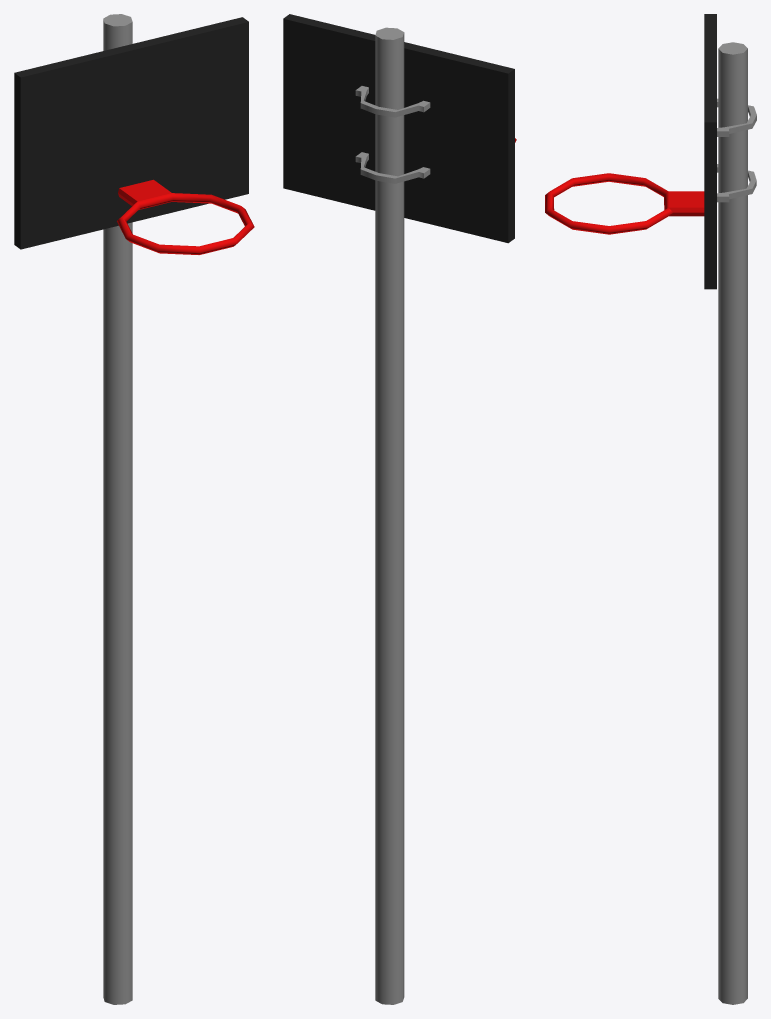
The model's file is Basketball Hoop.FBX.
The picture shows the model from 3 angles, left to right: view 1: azimuth 30°, elevation 25°; view 2: azimuth 150°, elevation 25°; view 3: azimuth 270°, elevation 25°; orthographic projection. The views are drawn at different scales.
Parts seen in each view (by area): view 1: Backboard, Basketball Hoop Pole; view 2: Backboard, Basketball Hoop Pole; view 3: Basketball Hoop Pole, Backboard.
Boxes of the visible parts, x1,y1,x2,y2 form: Backboard: [14, 17, 254, 254]; Basketball Hoop Pole: [103, 14, 132, 1004]; Backboard: [283, 14, 516, 243]; Basketball Hoop Pole: [375, 27, 404, 1004]; Basketball Hoop Pole: [718, 42, 747, 1004]; Backboard: [545, 14, 756, 289].
Bounding box in the file's own units: 169 × 691 × 140.
